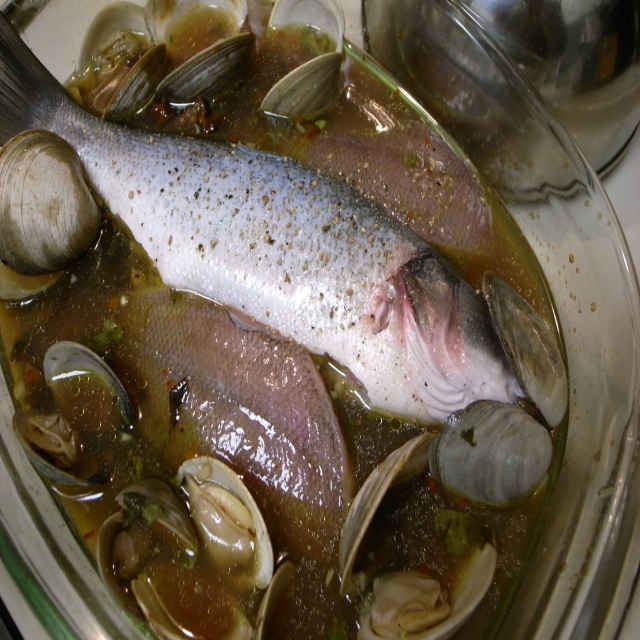Fish: (0, 5, 521, 432)
